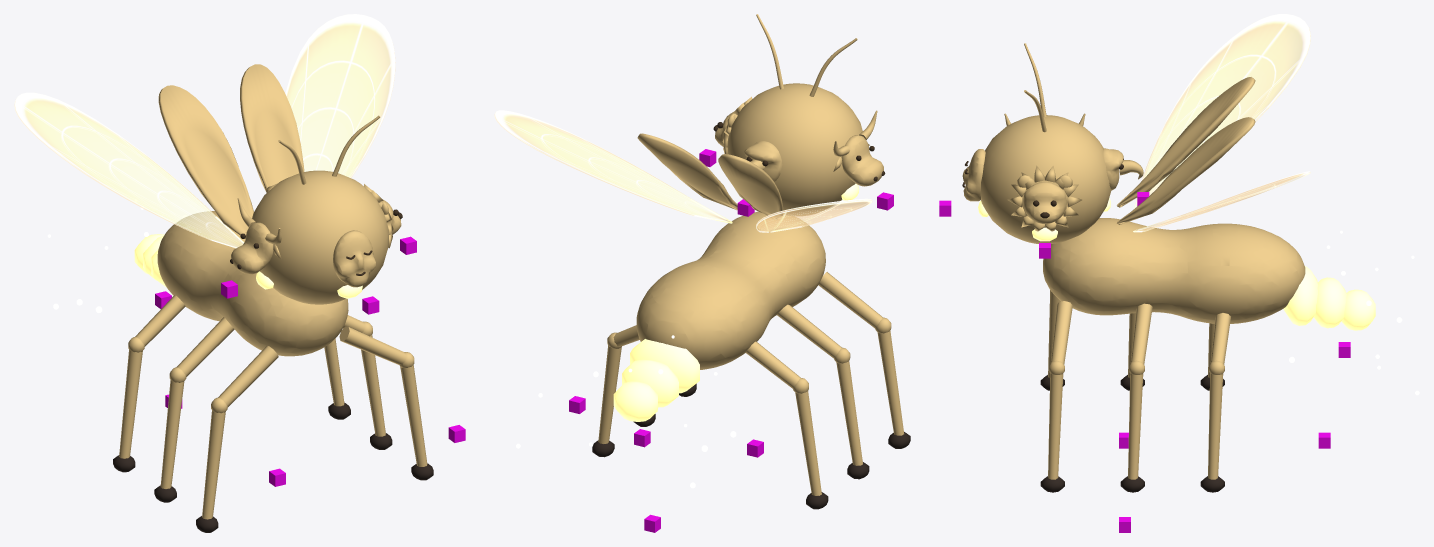
The model's file is 02_quattro_musetti_cherubino.glb.
The picture shows the model from 3 angles, left to right: view 1: azimuth 30°, elevation 25°; view 2: azimuth 150°, elevation 25°; view 3: azimuth 270°, elevation 25°; orthographic projection. The views are drawn at different scales.
Visible parts, largest first — view 1: Cherubino__Armatura_Elettro, Cherubino__Ali_Ambra, Cherubino__Zoccoli, Cherubino__Lanternino; view 2: Cherubino__Armatura_Elettro, Cherubino__Ali_Ambra, Cherubino__Lanternino, Cherubino__Zoccoli; view 3: Cherubino__Armatura_Elettro, Cherubino__Ali_Ambra, Cherubino__Lanternino, Cherubino__Zoccoli.
Boxes of the visible parts, x1,y1,x2,y2 form: Cherubino__Armatura_Elettro: [119, 64, 427, 519]; Cherubino__Ali_Ambra: [14, 14, 395, 248]; Cherubino__Zoccoli: [113, 402, 433, 532]; Cherubino__Lanternino: [134, 234, 166, 287]; Cherubino__Armatura_Elettro: [598, 14, 904, 495]; Cherubino__Ali_Ambra: [494, 110, 872, 232]; Cherubino__Lanternino: [613, 339, 699, 421]; Cherubino__Zoccoli: [592, 383, 910, 509]; Cherubino__Armatura_Elettro: [962, 43, 1305, 479]; Cherubino__Ali_Ambra: [1133, 14, 1310, 232]; Cherubino__Lanternino: [1283, 266, 1375, 330]; Cherubino__Zoccoli: [1040, 375, 1224, 492].
Size of the model in its own units: 3.08 by 3.14 by 3.6.
Materials: 8 (1 with a texture image).
